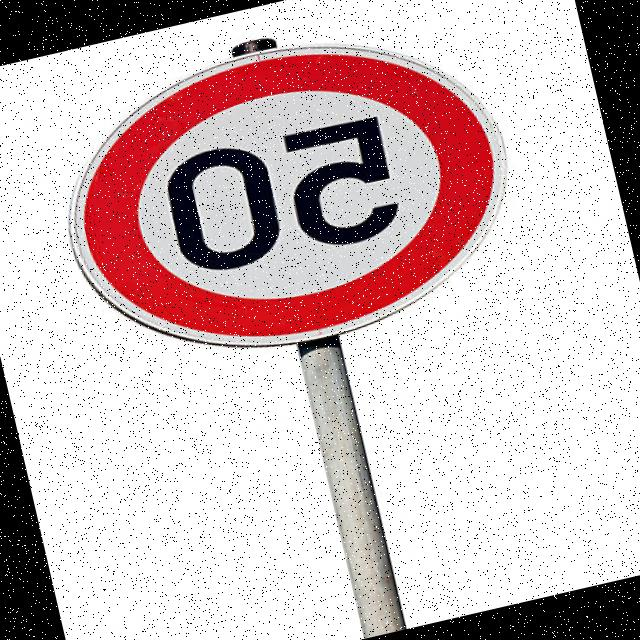speed_limit_50: (4, 0, 543, 407)
